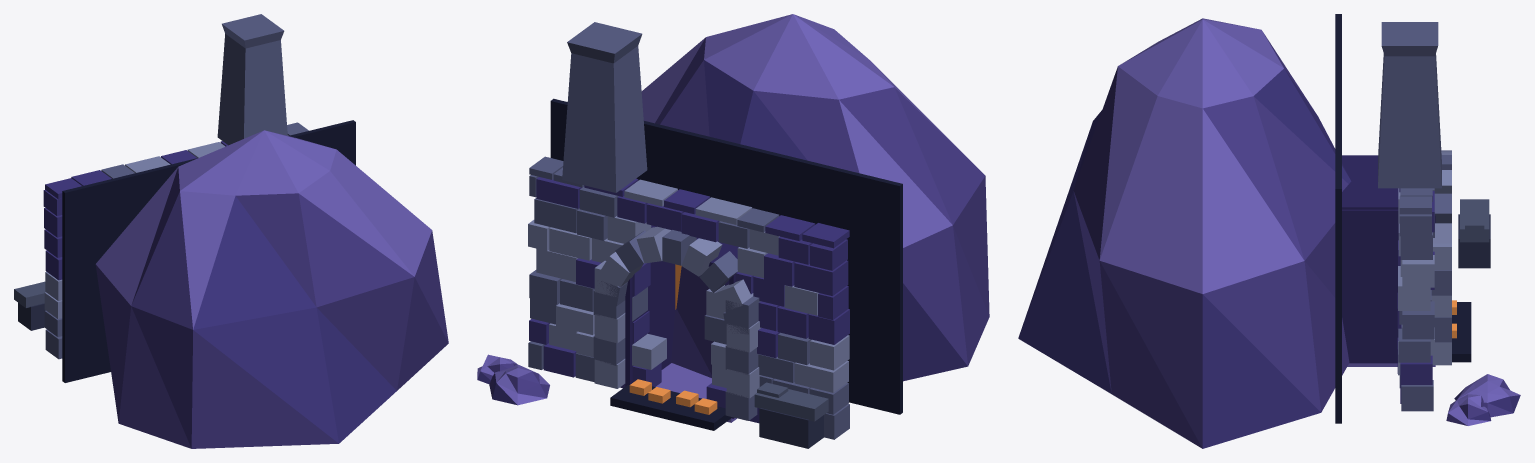
The model's file is Mine_Door_Forge.obj.
3 views of the same model, side by side, from view 1: azimuth 30°, elevation 25°; view 2: azimuth 150°, elevation 25°; view 3: azimuth 270°, elevation 25° (orthographic). The views are drawn at different scales.
Visible parts, largest first — view 1: Mine_Door_Forge; view 2: Mine_Door_Forge; view 3: Mine_Door_Forge.
Part boxes in pixels (x1,y1,x2,y2): Mine_Door_Forge: (14, 14, 448, 448); Mine_Door_Forge: (477, 14, 989, 448); Mine_Door_Forge: (1018, 14, 1520, 448).
Bounding box in the file's own units: 7.27 × 5.98 × 7.77.
